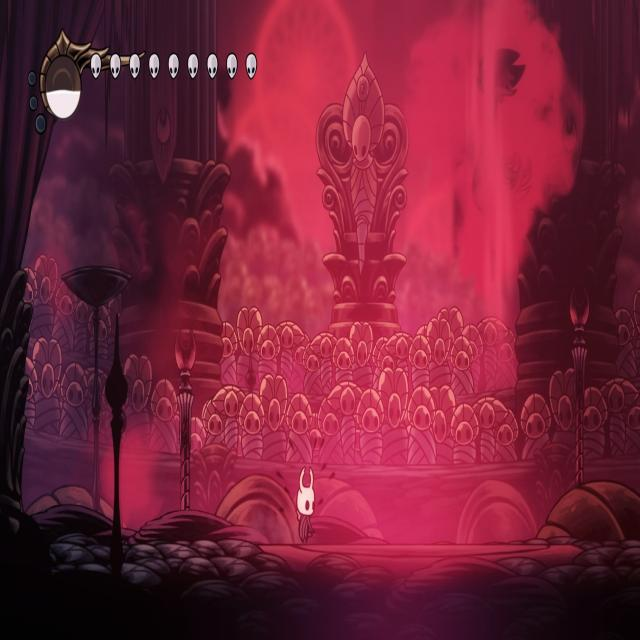Player: (294, 460, 320, 546)
